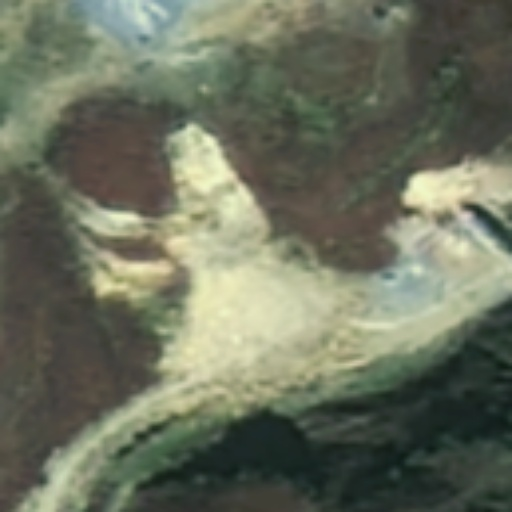landslide: (165, 126, 338, 384), (402, 157, 510, 266)
